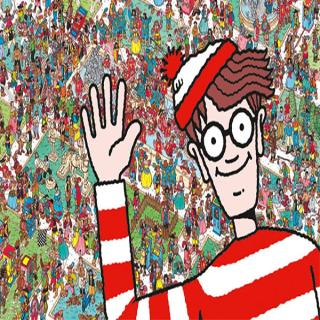Waldo: (158, 34, 277, 230)
